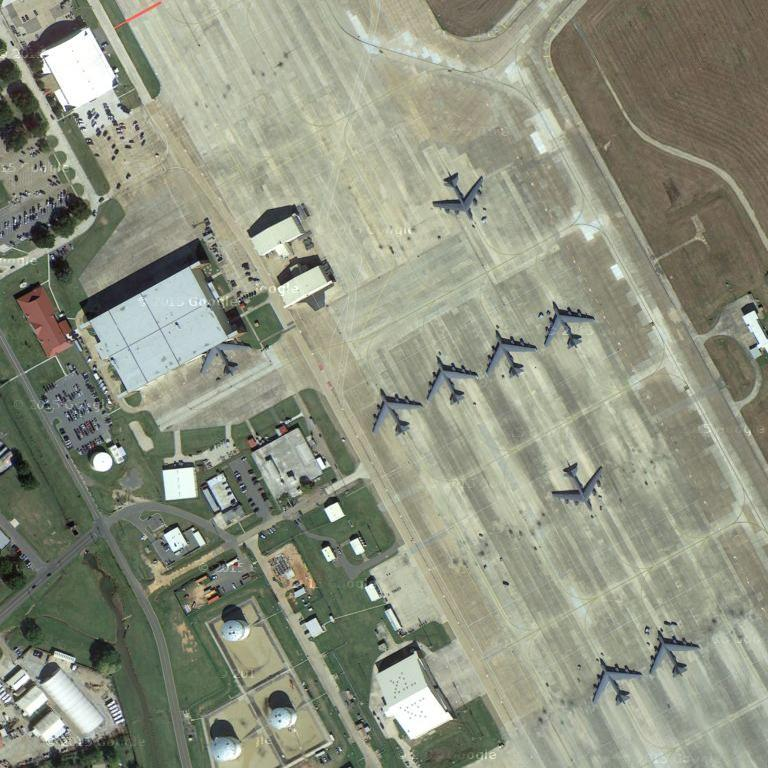B-52: (548, 458, 611, 513), (586, 652, 645, 710), (364, 384, 425, 438), (433, 170, 491, 224), (644, 627, 704, 679), (481, 327, 538, 381), (420, 355, 476, 406), (540, 301, 597, 350)
